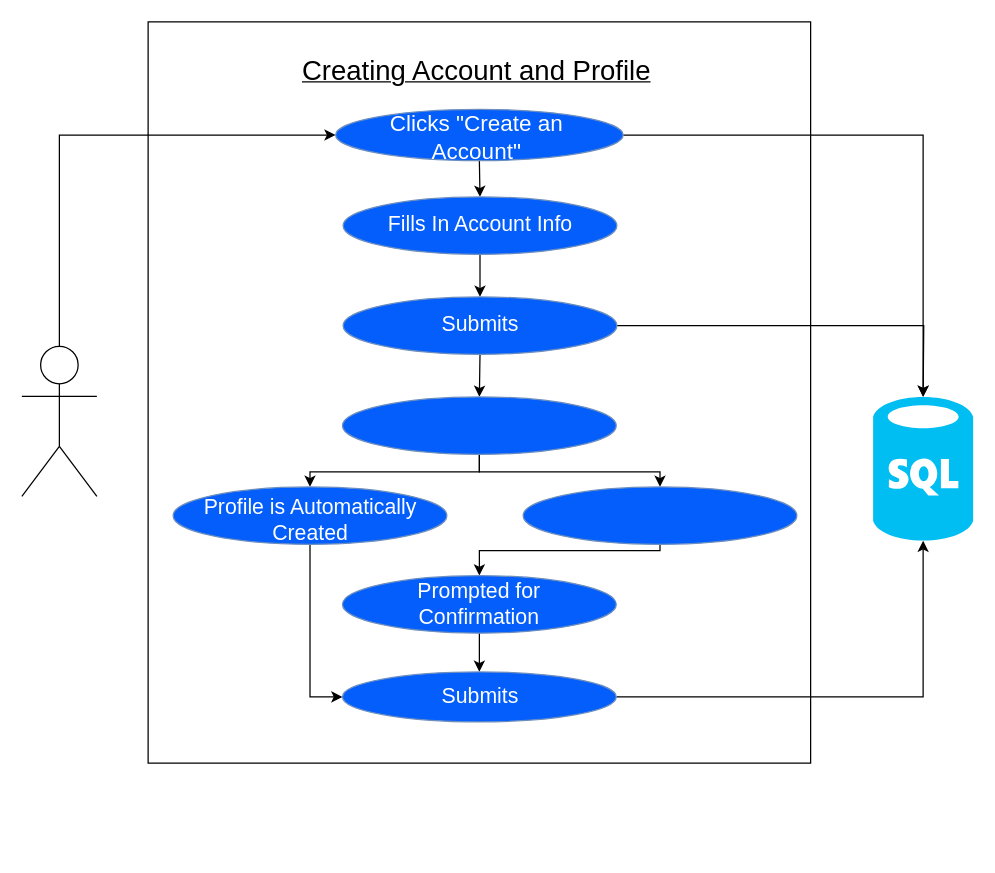
The diagram is 995 pixels wide and 873 high, and some of its shapes have lost their labels. The centre of each missing label's shape, as x and y in pixels:
"Makes Desired Changes" goes at (x=659, y=515).
"Prompted to Create a Profile" goes at (x=478, y=425).
"User" goes at (x=59, y=420).
